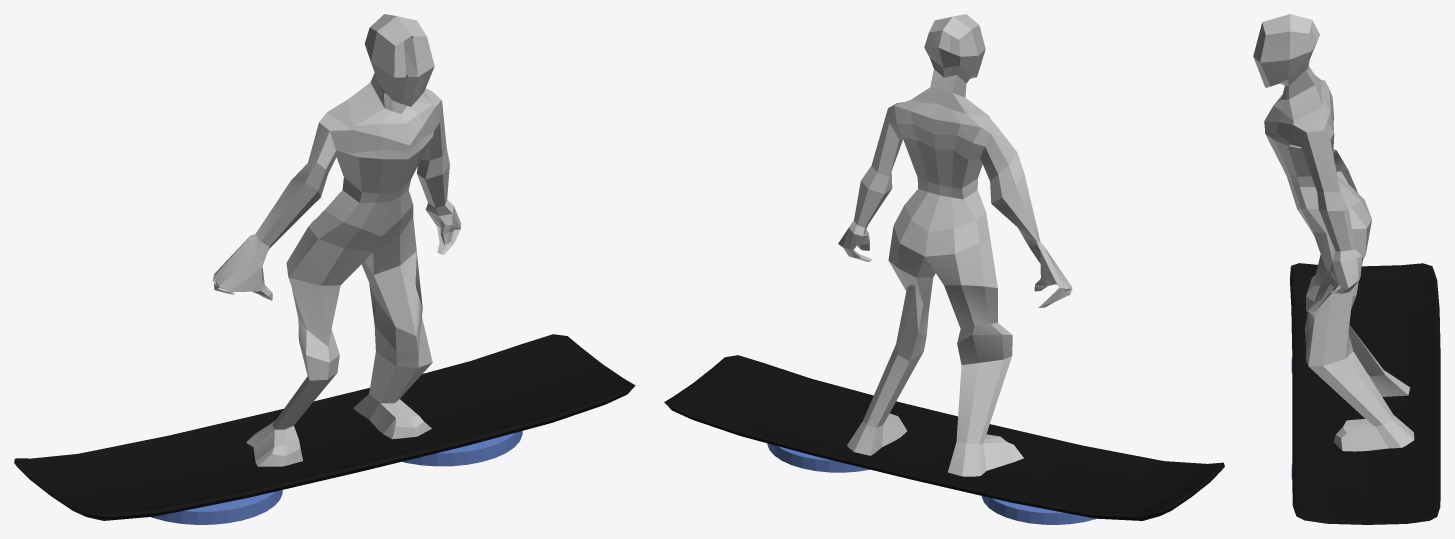
File: simple_char.obj
3 renders of one model, left to right at view 1: azimuth 30°, elevation 25°; view 2: azimuth 150°, elevation 25°; view 3: azimuth 270°, elevation 25°, orthographic. The views are drawn at different scales.
Parts seen in each view (by area): view 1: Low_Poly_Male_Character_Mesh_Object_0, Plane, Circle.001, Circle; view 2: Low_Poly_Male_Character_Mesh_Object_0, Plane, Circle.001, Circle; view 3: Plane, Low_Poly_Male_Character_Mesh_Object_0.
Boxes of the visible parts, <box> form: Low_Poly_Male_Character_Mesh_Object_0: <box>212,14,461,466</box>; Plane: <box>14,334,635,520</box>; Circle.001: <box>151,490,282,524</box>; Circle: <box>402,431,522,466</box>; Low_Poly_Male_Character_Mesh_Object_0: <box>838,14,1072,476</box>; Plane: <box>664,355,1224,520</box>; Circle.001: <box>981,496,1096,524</box>; Circle: <box>767,443,869,472</box>; Plane: <box>1290,263,1440,524</box>; Low_Poly_Male_Character_Mesh_Object_0: <box>1253,14,1414,451</box>.
Bounding box in the file's own units: 8.01 × 6.4 × 2.56.
